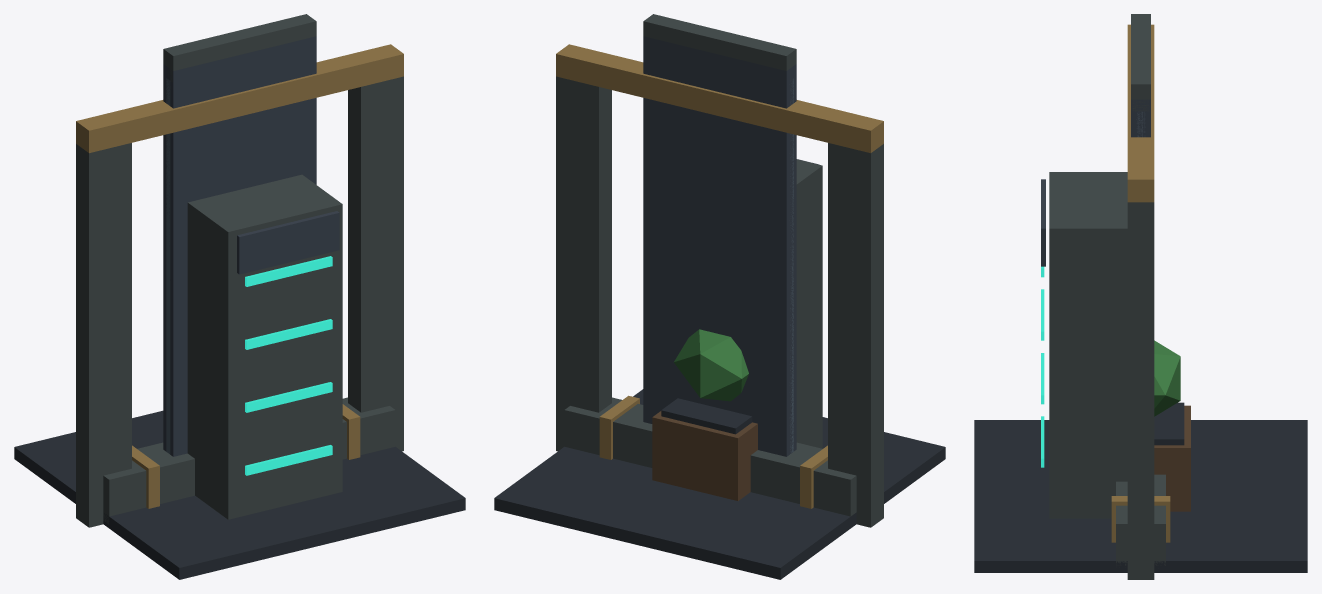
The model's file is hq-campus-shell-pack.glb.
3 renders of one model, left to right at view 1: azimuth 30°, elevation 25°; view 2: azimuth 150°, elevation 25°; view 3: azimuth 270°, elevation 25°, orthographic.
Visible parts, largest first — view 1: Nook_Cabinet, Tile_Slab, Wall_Slab, Door_Post_West, Door_Post_East, Door_Lintel, Duct_Body, Nook_Vent, Wall_Skirt, Glass_Sheet, Nook_Led_Row_2, Nook_Led_Row_3 (+5 smaller); view 2: Wall_Slab, Tile_Slab, Door_Post_West, Door_Post_East, Door_Lintel, Duct_Body, Nook_Cabinet, Planter_Box, Planter_Bush, Wall_Skirt, Planter_Soil, Duct_Ring_East (+1 smaller); view 3: Tile_Slab, Nook_Cabinet, Door_Post_East, Door_Lintel, Planter_Box, Duct_Body, Wall_Skirt, Planter_Bush, Planter_Soil, Wall_Slab, Duct_Ring_East, Glass_Rail_Top (+1 smaller).
Boxes of the visible parts, left/top/right/bottom form: Nook_Cabinet: left=187, top=174, right=342, bottom=519; Tile_Slab: left=14, top=410, right=465, bottom=579; Wall_Slab: left=163, top=36, right=316, bottom=456; Door_Post_West: left=76, top=143, right=131, bottom=527; Door_Post_East: left=348, top=76, right=403, bottom=451; Door_Lintel: left=76, top=44, right=403, bottom=153; Duct_Body: left=103, top=397, right=395, bottom=524; Nook_Vent: left=237, top=211, right=339, bottom=274; Wall_Skirt: left=163, top=14, right=316, bottom=70; Glass_Sheet: left=166, top=79, right=169, bottom=453; Nook_Led_Row_2: left=245, top=319, right=332, bottom=349; Nook_Led_Row_3: left=245, top=256, right=332, bottom=286; Wall_Slab: left=643, top=36, right=796, bottom=456; Tile_Slab: left=494, top=389, right=945, bottom=579; Door_Post_West: left=828, top=143, right=883, bottom=527; Door_Post_East: left=556, top=76, right=611, bottom=451; Door_Lintel: left=556, top=44, right=883, bottom=153; Duct_Body: left=564, top=397, right=856, bottom=516; Nook_Cabinet: left=796, top=159, right=822, bottom=448; Planter_Box: left=652, top=411, right=757, bottom=500; Planter_Bush: left=674, top=329, right=748, bottom=401; Wall_Skirt: left=643, top=14, right=796, bottom=70; Planter_Soil: left=661, top=398, right=752, bottom=434; Duct_Ring_East: left=599, top=395, right=639, bottom=459; Tile_Slab: left=974, top=420, right=1307, bottom=572; Nook_Cabinet: left=1049, top=172, right=1127, bottom=518; Door_Post_East: left=1127, top=202, right=1154, bottom=579; Door_Lintel: left=1127, top=24, right=1154, bottom=202; Planter_Box: left=1154, top=405, right=1190, bottom=511; Duct_Body: left=1116, top=474, right=1165, bottom=565; Wall_Skirt: left=1131, top=14, right=1150, bottom=99; Planter_Bush: left=1154, top=340, right=1180, bottom=416; Planter_Soil: left=1154, top=402, right=1184, bottom=445; Wall_Slab: left=1131, top=99, right=1150, bottom=137; Duct_Ring_East: left=1111, top=496, right=1170, bottom=542; Glass_Rail_Top: left=1132, top=14, right=1149, bottom=111.
Bounding box in the file's own units: 2.2 × 3 × 2.
